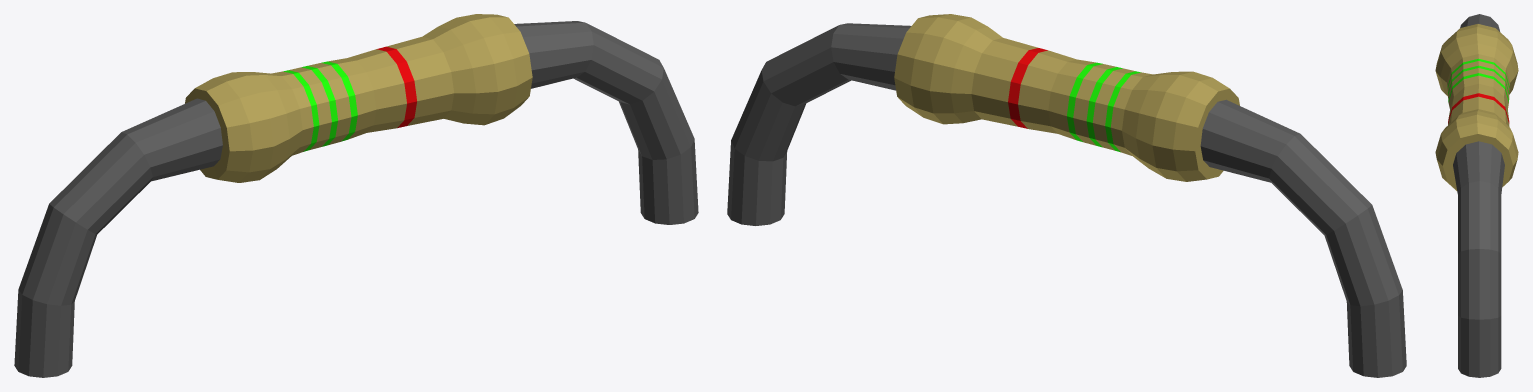
The model's file is Resistor.fbx.
3 renders of one model, left to right at view 1: azimuth 30°, elevation 25°; view 2: azimuth 150°, elevation 25°; view 3: azimuth 270°, elevation 25°, orthographic. The views are drawn at different scales.
Parts seen in each view (by area): view 1: Resistor; view 2: Resistor; view 3: Resistor.
Boxes of the visible parts, x1,y1,x2,y2 form: Resistor: (14, 14, 698, 377); Resistor: (727, 14, 1406, 377); Resistor: (1435, 14, 1518, 377).
Bounding box in the file's own units: 967 × 331 × 138.
